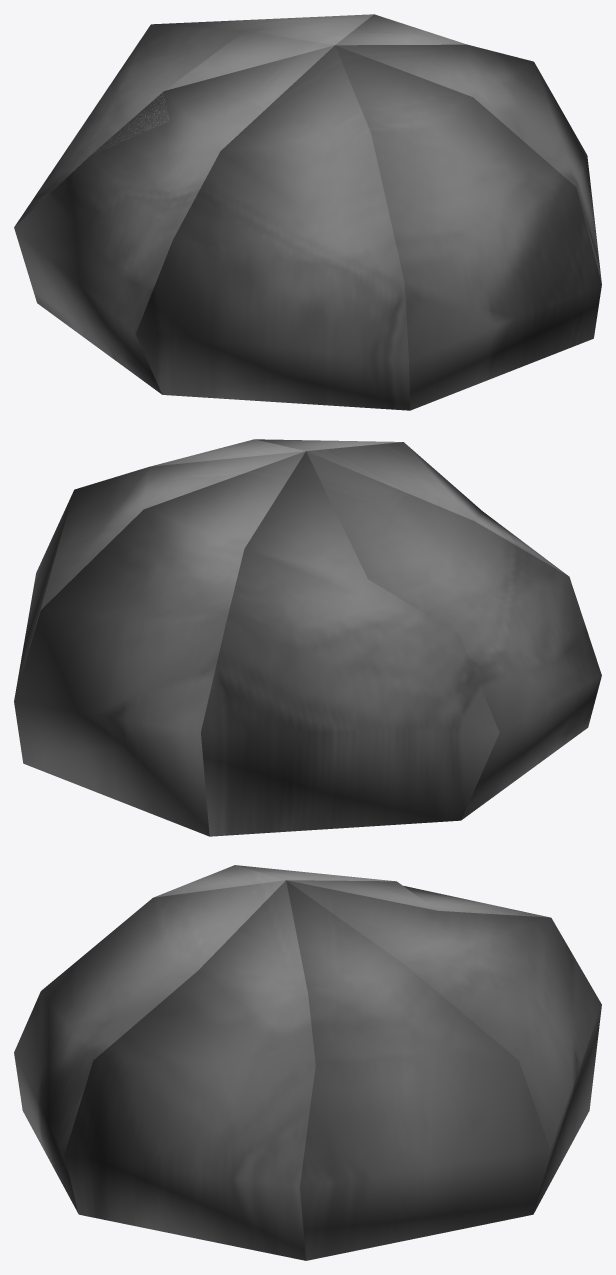
The model's file is StoneExplode.fbx.
The picture shows the model from 3 angles, top to bottom: view 1: azimuth 30°, elevation 25°; view 2: azimuth 150°, elevation 25°; view 3: azimuth 270°, elevation 25°; orthographic projection.
Visible parts, largest first — view 1: Sphere.001, Sphere.002, Sphere.003, Sphere.004, Sphere, Sphere.005, Sphere.006; view 2: Sphere.004, Sphere.005, Sphere.003, Sphere.006, Sphere.001, Sphere, Sphere.002; view 3: Sphere, Sphere.006, Sphere.005, Sphere.002, Sphere.004, Sphere.001, Sphere.003.
Boxes of the visible parts, x1=… form: Sphere.001: x1=136, y1=45, x2=410, y2=410; Sphere.002: x1=335, y1=45, x2=601, y2=410; Sphere.003: x1=14, y1=45, x2=334, y2=394; Sphere.004: x1=14, y1=24, x2=333, y2=226; Sphere: x1=336, y1=44, x2=601, y2=283; Sphere.005: x1=154, y1=14, x2=373, y2=45; Sphere.006: x1=335, y1=14, x2=466, y2=45; Sphere.004: x1=201, y1=451, x2=499, y2=836; Sphere.005: x1=14, y1=451, x2=305, y2=836; Sphere.003: x1=306, y1=451, x2=601, y2=820; Sphere.006: x1=14, y1=451, x2=304, y2=699; Sphere.001: x1=306, y1=442, x2=567, y2=575; Sphere: x1=150, y1=439, x2=305, y2=466; Sphere.002: x1=255, y1=439, x2=401, y2=450; Sphere: x1=64, y1=880, x2=315, y2=1260; Sphere.006: x1=286, y1=880, x2=549, y2=1260; Sphere.005: x1=286, y1=880, x2=601, y2=1213; Sphere.002: x1=14, y1=880, x2=285, y2=1213; Sphere.004: x1=288, y1=880, x2=550, y2=917; Sphere.001: x1=154, y1=865, x2=285, y2=897; Sphere.003: x1=235, y1=865, x2=394, y2=881.
Size of the model in its own units: 191 by 90.55 by 187.
